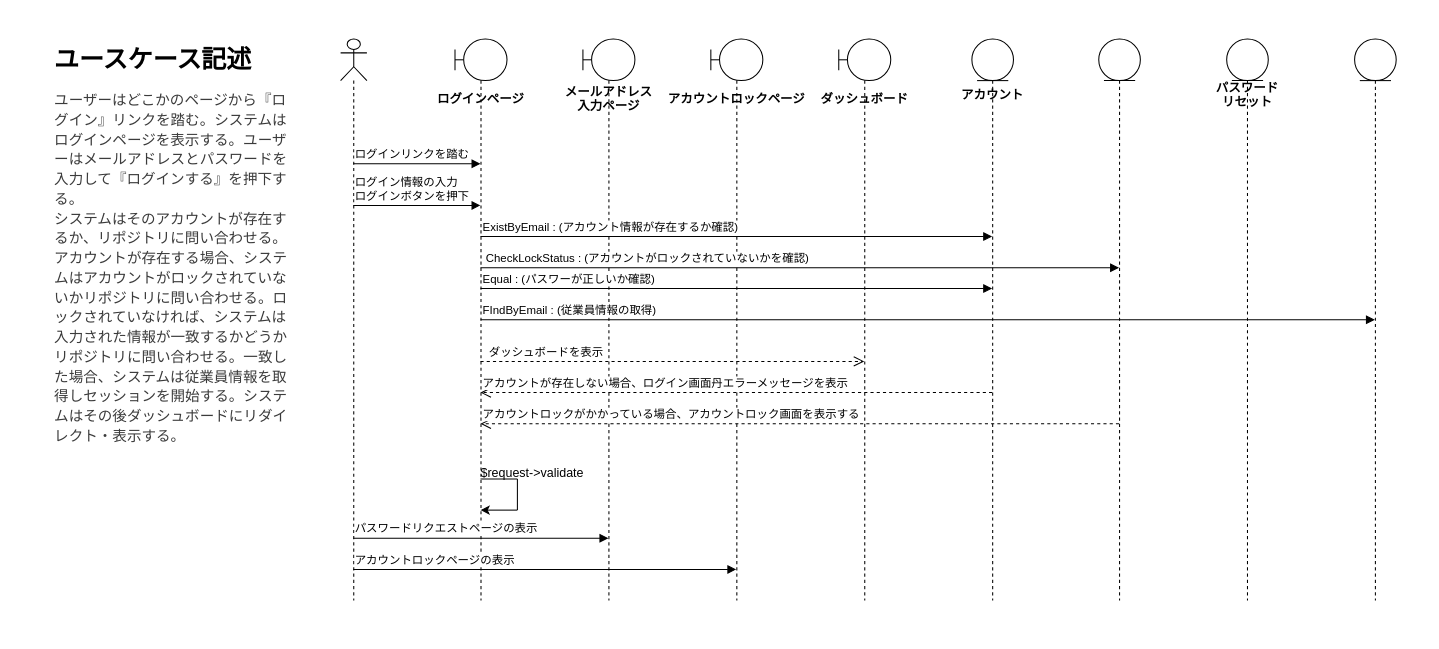
This 1439x649 diagram has some shape labels left out. The box of each missing label's shape, as (x1, y1, x2, y2) in pixels:
アカウント ステータス: (1098, 38, 1140, 601)
従業員: (1354, 38, 1396, 601)
管理者: (340, 38, 367, 601)
